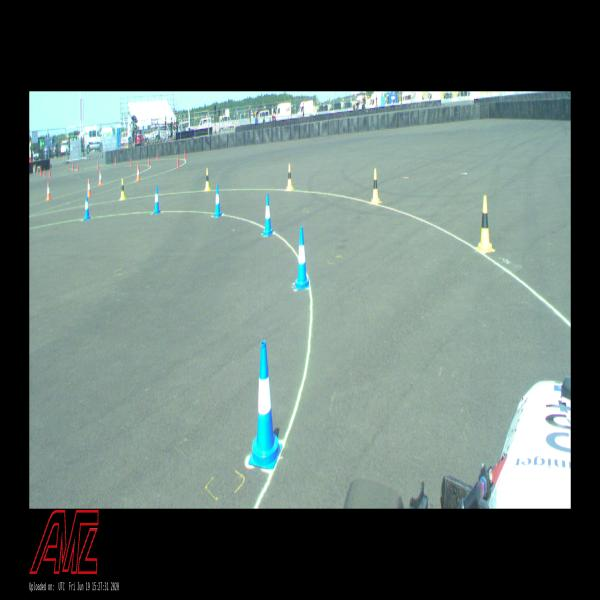blue_cone: (249, 341, 282, 469), (295, 227, 309, 290), (262, 194, 273, 236), (214, 185, 222, 217), (154, 186, 160, 214), (84, 194, 90, 220)
orange_cone: (46, 183, 51, 200), (88, 179, 92, 197), (136, 162, 140, 180), (99, 171, 102, 184)
unknown_cone: (177, 157, 179, 168), (114, 158, 117, 165), (40, 166, 42, 176), (148, 157, 150, 166), (130, 158, 132, 166), (184, 152, 186, 160), (72, 163, 74, 171), (49, 169, 51, 177), (44, 168, 46, 176), (36, 166, 38, 174), (97, 162, 99, 169), (157, 152, 158, 160), (77, 163, 78, 170), (68, 162, 69, 169)
yellow_cone: (477, 196, 493, 252), (371, 168, 380, 204), (286, 164, 292, 189), (120, 179, 126, 200), (205, 169, 210, 190)
